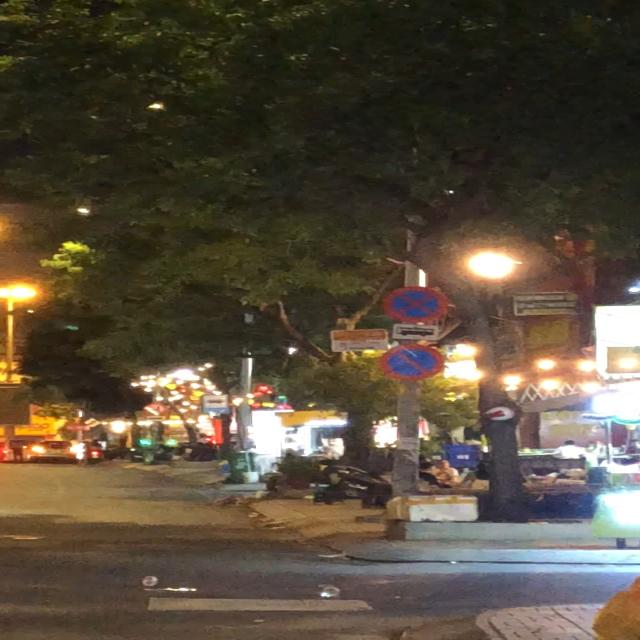Bien bao cam do xe: (377, 344, 450, 381)
Bien bao cam dung xe va do xe: (382, 285, 450, 325)
